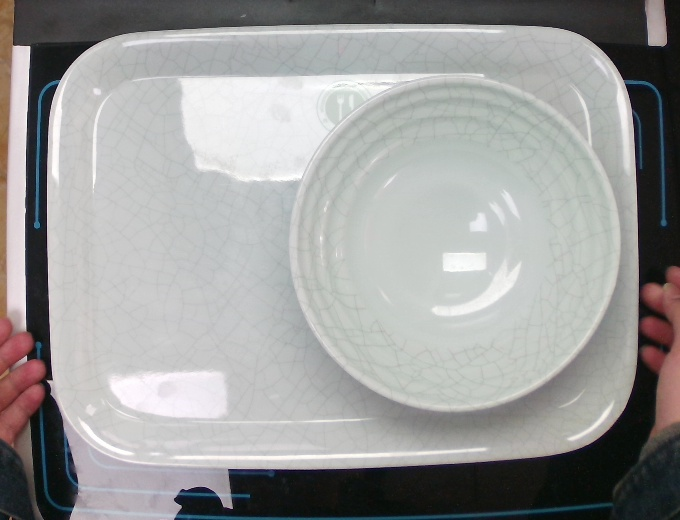JYsf-Da_Tang_Wan: (283, 72, 624, 417)
